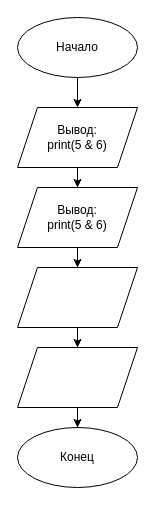
This 155x505 diagram has some shape labels left out. Here are the shapes that lost their labels. From the top down, the centre of each, then its label:
At pixel 77 297: "Вывод: print(5 >> 6)".
At pixel 77 377: "Вывод: print(5 << 6)".
